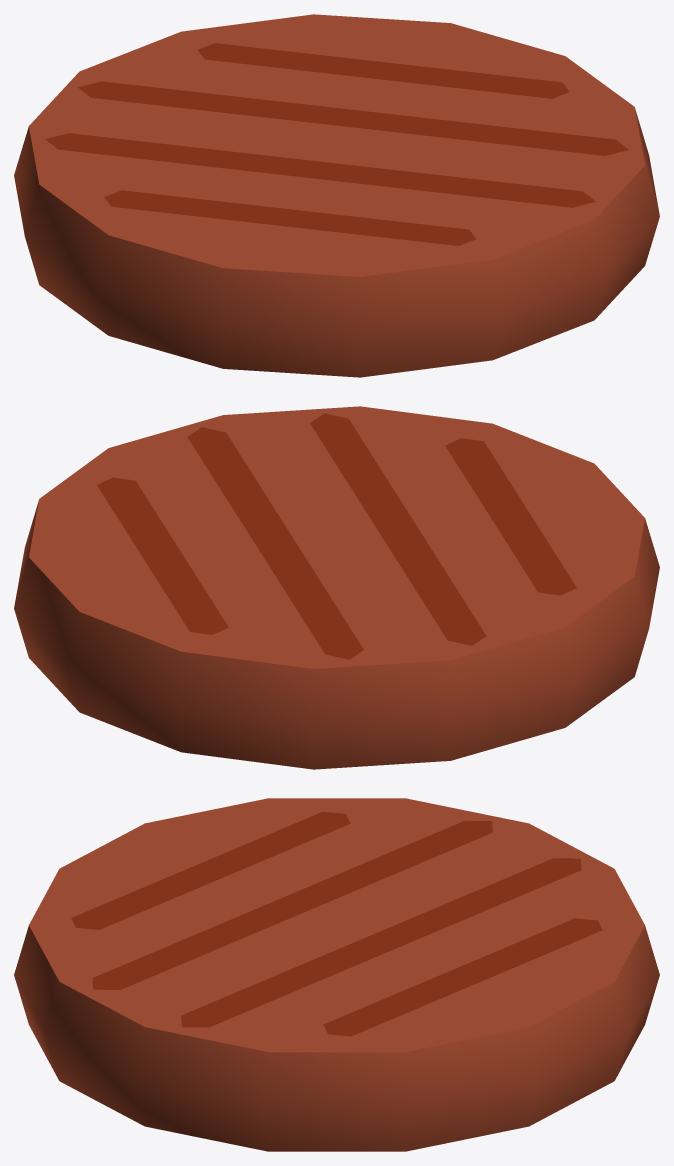
Rendered from Stock_Patty_geo.fbx.
3 renders of one model, top to bottom at view 1: azimuth 30°, elevation 25°; view 2: azimuth 150°, elevation 25°; view 3: azimuth 270°, elevation 25°, orthographic.
Parts seen in each view (by area): view 1: Stock_Patty_geo; view 2: Stock_Patty_geo; view 3: Stock_Patty_geo.
Part boxes in pixels (x1,y1,x2,y2): Stock_Patty_geo: [14, 14, 659, 377]; Stock_Patty_geo: [14, 406, 659, 769]; Stock_Patty_geo: [14, 798, 659, 1151].
Bounding box in the file's own units: 0.4518 × 0.4634 × 0.0805.
